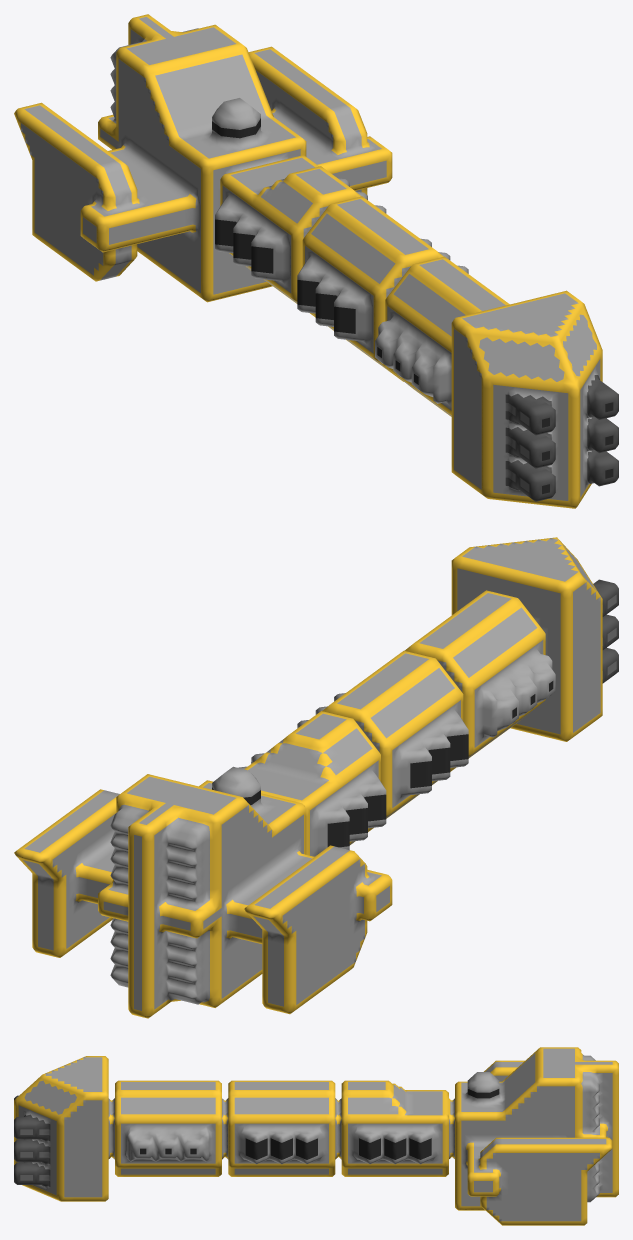
File: mechyrdia-5-tyla-class.obj
3 renders of one model, top to bottom at view 1: azimuth 30°, elevation 25°; view 2: azimuth 150°, elevation 25°; view 3: azimuth 270°, elevation 25°, orthographic. The views are drawn at different scales.
Size of the model in its own units: 37 by 23 by 96.
1 material, 1 textured.
